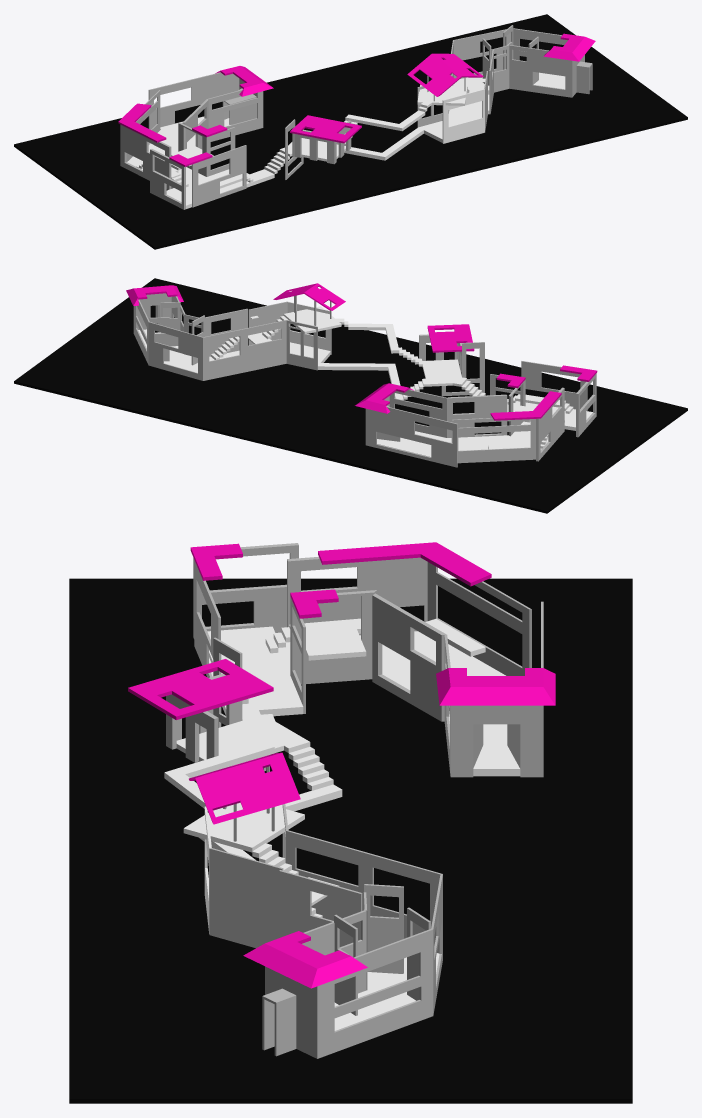
3 renders of one model, top to bottom at view 1: azimuth 30°, elevation 25°; view 2: azimuth 150°, elevation 25°; view 3: azimuth 270°, elevation 25°, orthographic. The views are drawn at different scales.
Parts seen in each view (by area): view 1: Model, 2-Color_M03, 1-Color_M03, 7-Color_M03, 4-Color_M00, 6-Color_M03, 2-Color_M00, 4-Color_L05, 3-Color_M03, 2-Color_L05, 5-Color_M00, 3-Color_L05 (+4 smaller); view 2: Model, 2-Color_M03, 5-Color_M03 (×2), 1-Color_M03, 6-Color_M03, 4-Color_M00, 2-Color_M00, 7-Color_M03, 2-Color_L05, 5-Color_M00, 3-Color_M03, 3-Color_L05 (+7 smaller); view 3: Model, 2-Color_M03, 5-Color_M03 (×2), 7-Color_M03, 2-Color_M00, 1-Color_M03, 4-Color_M00, 2-Color_L05, 6-Color_M03, 3-Color_L05, 4-Color_L05, 1-Color_L05 (+6 smaller).
Part boxes in pixels (x1,y1,x2,y2): Model: [14, 14, 687, 249]; 2-Color_M03: [120, 90, 246, 209]; 1-Color_M03: [148, 72, 263, 141]; 7-Color_M03: [509, 28, 592, 97]; 4-Color_M00: [336, 84, 484, 145]; 6-Color_M03: [453, 25, 538, 92]; 2-Color_M00: [127, 129, 259, 208]; 4-Color_L05: [407, 53, 483, 96]; 3-Color_M03: [285, 119, 351, 179]; 2-Color_L05: [118, 103, 227, 166]; 5-Color_M00: [419, 77, 489, 142]; 3-Color_L05: [290, 115, 361, 143]; Model: [14, 278, 687, 513]; 2-Color_M03: [447, 361, 596, 463]; 5-Color_M03 (×2): [203, 301, 287, 380]; 1-Color_M03: [365, 389, 457, 467]; 6-Color_M03: [148, 302, 204, 380]; 4-Color_M00: [283, 301, 422, 366]; 2-Color_M00: [447, 394, 592, 450]; 7-Color_M03: [133, 293, 185, 364]; 2-Color_L05: [490, 365, 597, 420]; 5-Color_M00: [186, 316, 330, 372]; 3-Color_M03: [419, 334, 484, 396]; 3-Color_L05: [427, 324, 474, 352]; Model: [69, 578, 632, 1103]; 2-Color_M03: [193, 543, 531, 721]; 5-Color_M03 (×2): [209, 830, 441, 953]; 7-Color_M03: [262, 910, 433, 1058]; 2-Color_M00: [207, 618, 505, 716]; 1-Color_M03: [444, 601, 543, 777]; 4-Color_M00: [164, 741, 304, 933]; 2-Color_L05: [190, 542, 491, 618]; 6-Color_M03: [334, 874, 442, 1015]; 3-Color_L05: [128, 659, 273, 719]; 4-Color_L05: [189, 752, 300, 824]; 1-Color_L05: [436, 668, 555, 705].
Bounding box in the file's own units: 13.37 × 1.84 × 6.11.
